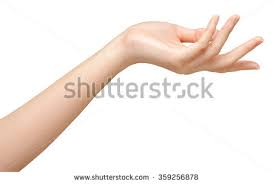hand: (88, 6, 267, 79)
